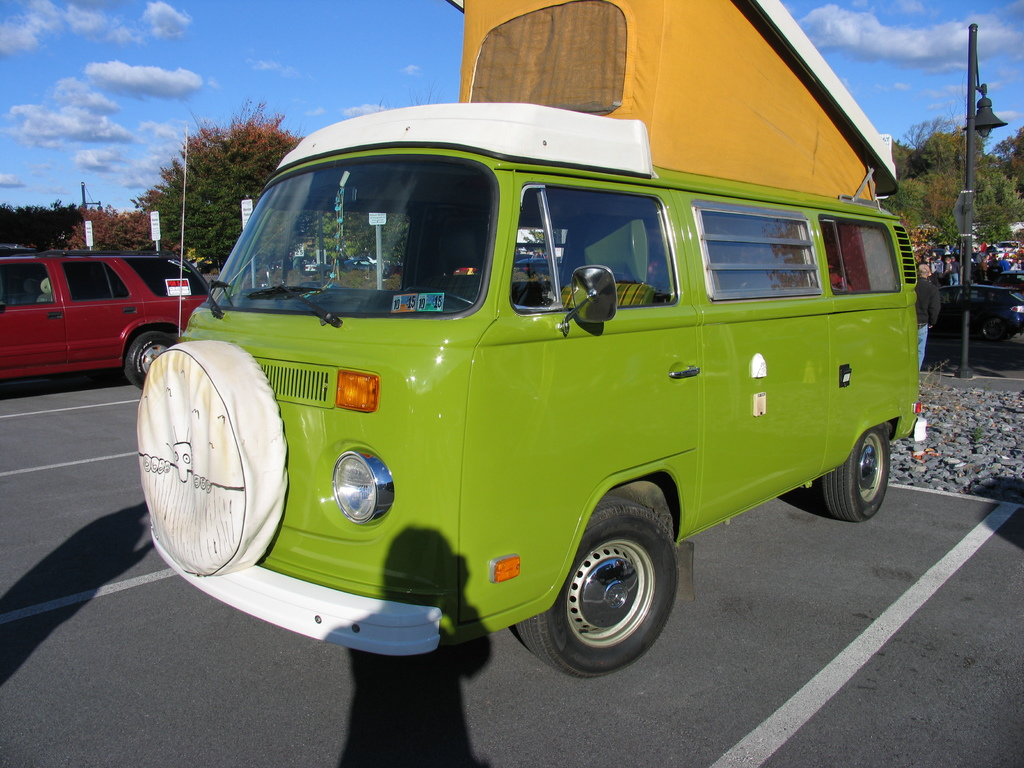Bus: (136, 0, 926, 679)
